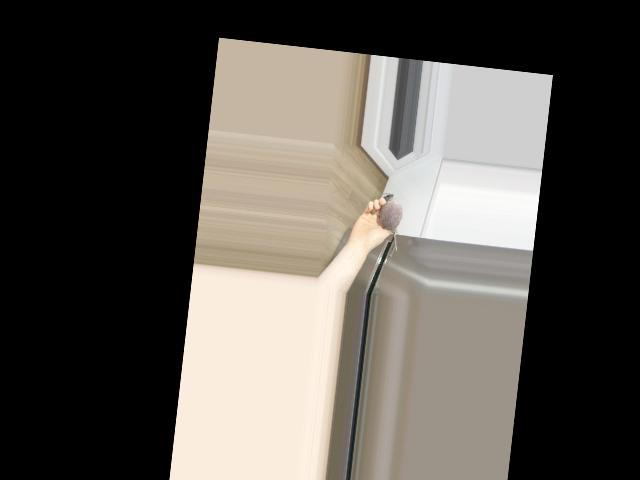beet: (375, 191, 404, 251)
